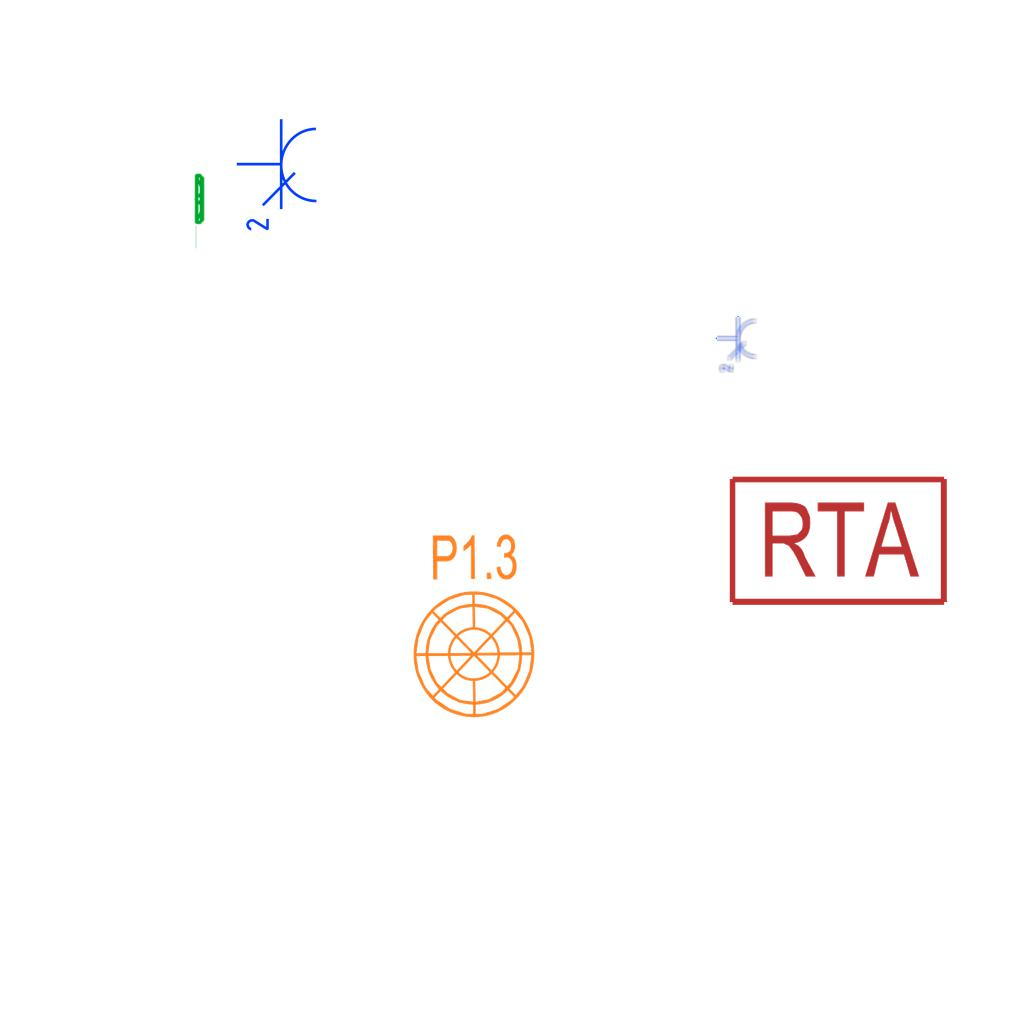Aufbaurundleuchte_LED_Treppenhaus: (410, 516, 549, 721)
Ruf-und_Abstelltaster: (722, 472, 950, 610)
Schukosteckdose_mehrfach: (235, 117, 323, 238), (715, 315, 759, 375)
Sicherheitsleuchte_Wandeinbau: (194, 172, 206, 251)
